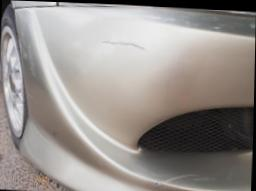Bumper: (91, 31, 170, 84), (132, 153, 219, 191)
